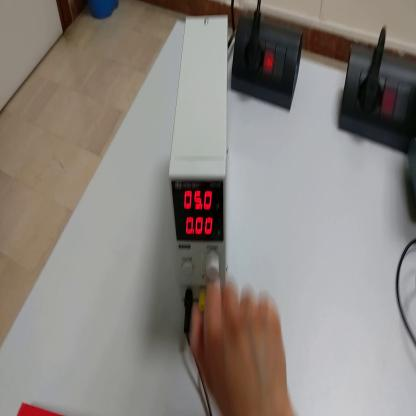hand: (193, 279, 291, 415)
oscilloscope: (409, 136, 416, 194)
power supply: (170, 9, 230, 305)
socket: (341, 38, 416, 154), (234, 15, 304, 113)
